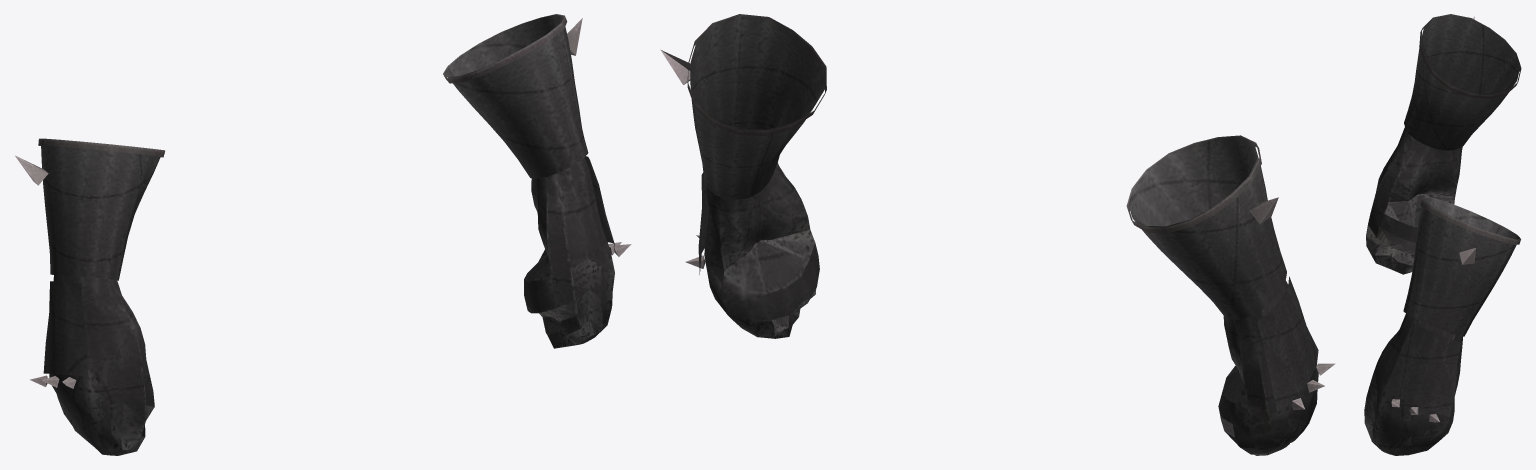
The model's file is Luvas_de_Placas_nivel50.glb.
3 renders of one model, left to right at view 1: azimuth 30°, elevation 25°; view 2: azimuth 150°, elevation 25°; view 3: azimuth 270°, elevation 25°, orthographic. The views are drawn at different scales.
Parts seen in each view (by area): view 1: luvas_de_placas_nivel50; view 2: luvas_de_placas_nivel50; view 3: luvas_de_placas_nivel50.
Boxes of the visible parts, x1,y1,x2,y2 form: luvas_de_placas_nivel50: (15,14,631,455); luvas_de_placas_nivel50: (660,14,1335,455); luvas_de_placas_nivel50: (1364,14,1521,455).
Size of the model in its own units: 0.7062 by 0.3555 by 0.1997.
Materials: 1 (1 with a texture image).
